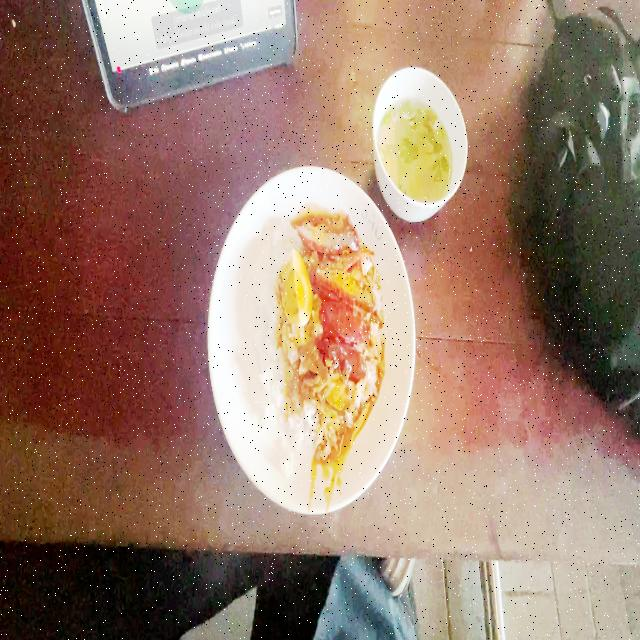boiled_egg: (287, 254, 310, 319)
chainese_sausage: (324, 302, 371, 374), (328, 302, 370, 340), (328, 338, 369, 372)
crispy_pork: (305, 369, 355, 417)
red_pork: (309, 218, 375, 303)
red_pork_and_crispy_pork: (254, 215, 380, 453)
rice: (257, 262, 282, 420), (266, 213, 298, 266), (275, 417, 304, 463)
